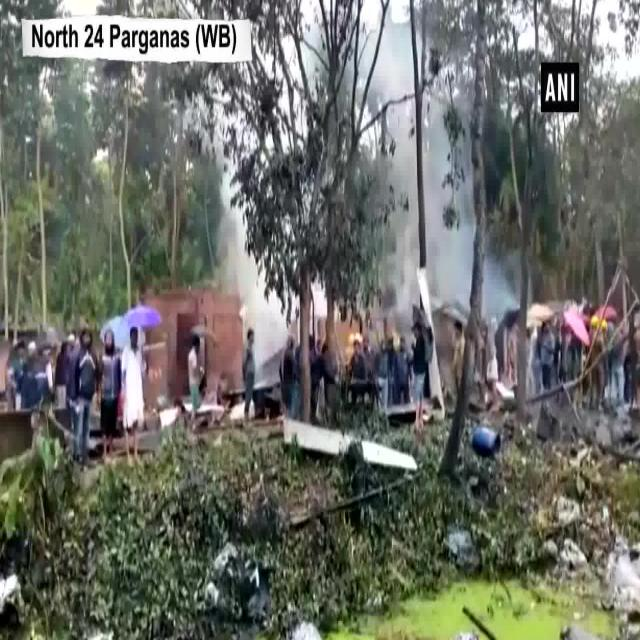smoke: (368, 32, 413, 94), (432, 230, 475, 287), (250, 289, 278, 347)
